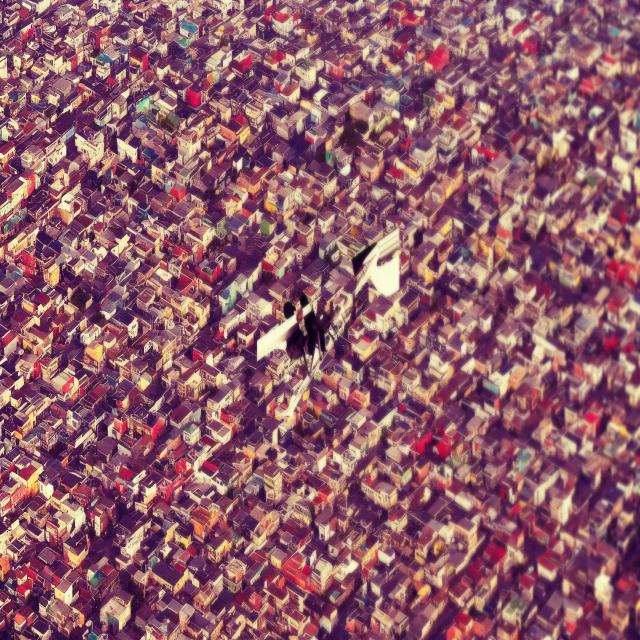airplane: (256, 225, 404, 421)
